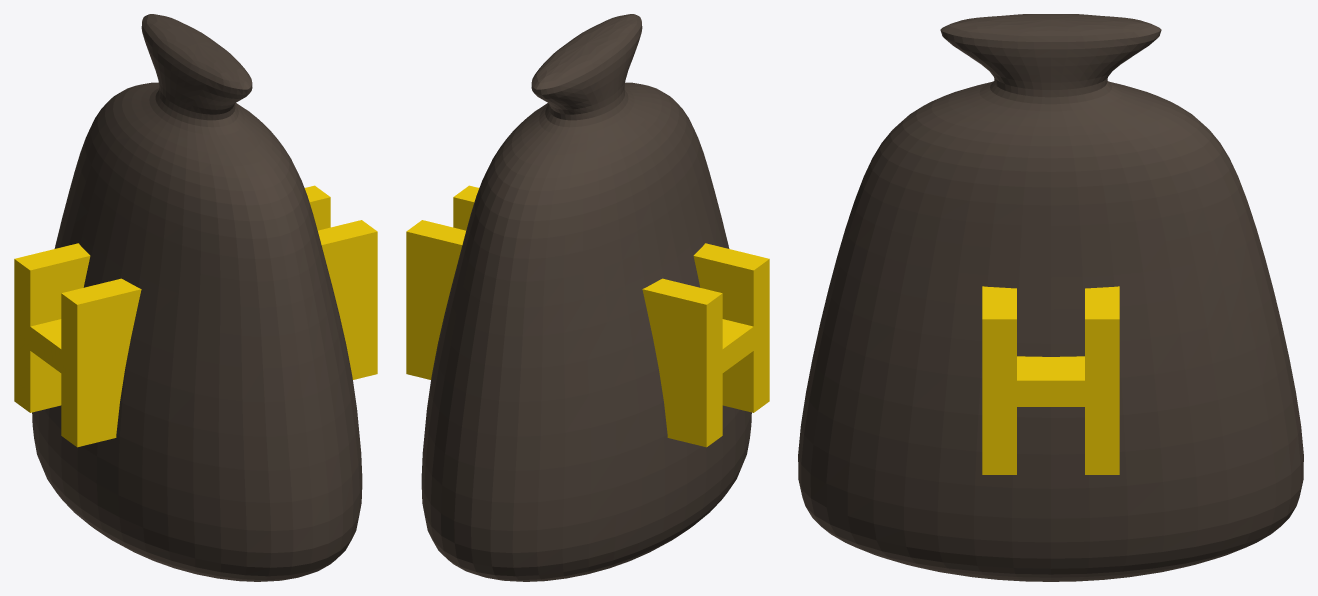
Rendered from new_goldpouch.fbx.
The picture shows the model from 3 angles, left to right: view 1: azimuth 30°, elevation 25°; view 2: azimuth 150°, elevation 25°; view 3: azimuth 270°, elevation 25°; orthographic projection. The views are drawn at different scales.
Visible parts, largest first — view 1: Object_4, Object_1; view 2: Object_4, Object_1; view 3: Object_4, Object_1.
Boxes of the visible parts, x1,y1,x2,y2 form: Object_4: (32, 14, 362, 581); Object_1: (14, 185, 377, 447); Object_4: (421, 14, 751, 581); Object_1: (406, 185, 769, 447); Object_4: (798, 14, 1303, 581); Object_1: (982, 286, 1119, 474).
Bounding box in the file's own units: 31.82 × 42.47 × 49.81.
